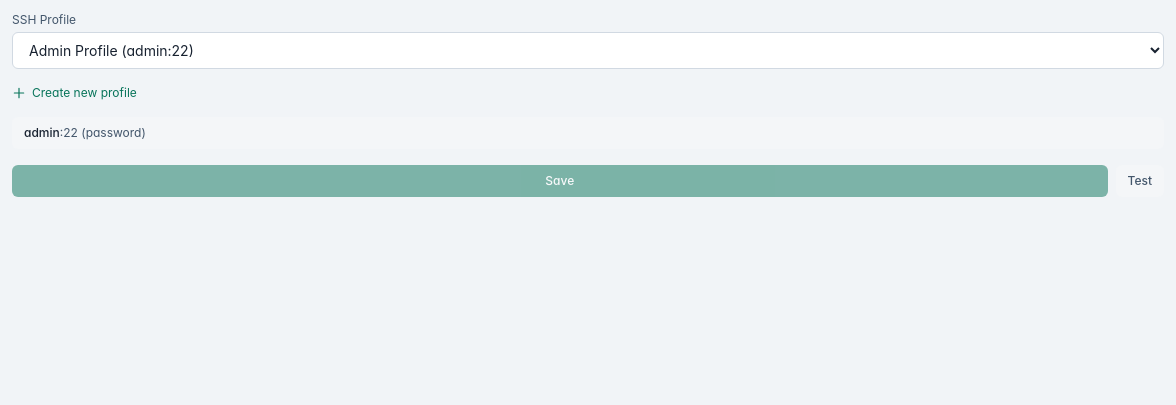
Scenario: SSHCredentialForm — SSH host-key mismatch recovery › offers a confirmed SSH host key reset from the Test button result
The width and height of the screenshot is (1176, 405).
Click the button "Test".
click(1140, 181)  # box [1116,165,1164,197]
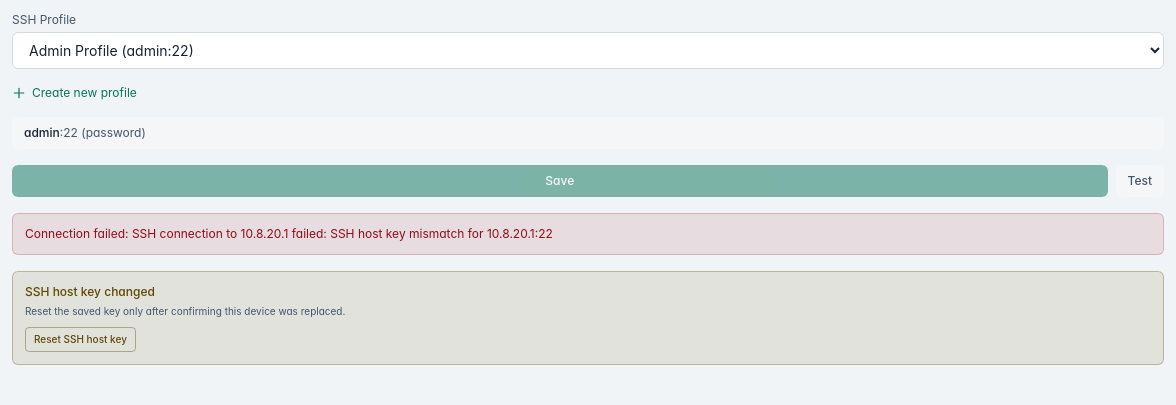
Now the text "SSH host key changed" is shown, box [25,284,155,299]
Click the button "Reset SSH host key".
click(80, 340)  # box [25,327,136,352]
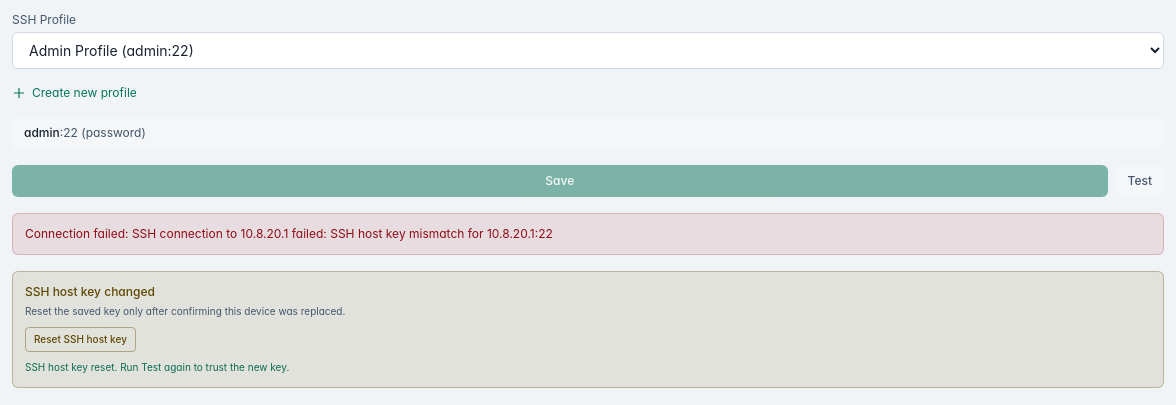
Now the text "SSH host key reset. Run Test again to trust the new key." is shown, box [25,361,289,373]
